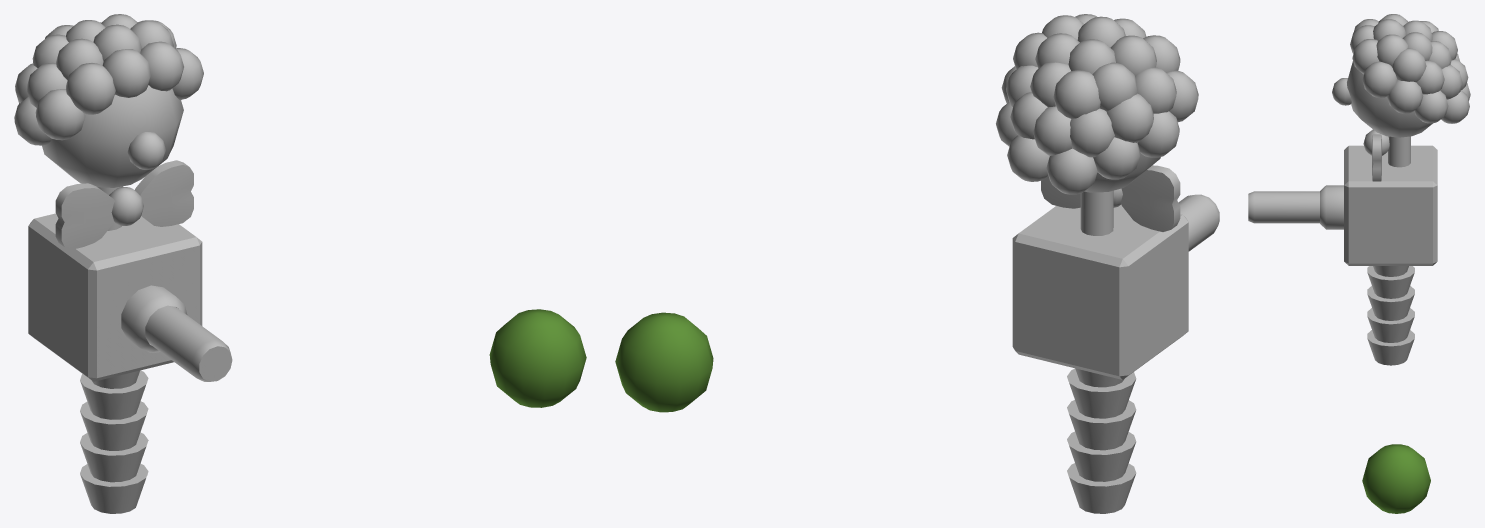
The model's file is Enemies bed time FBX p2.fbx.
The picture shows the model from 3 angles, left to right: view 1: azimuth 30°, elevation 25°; view 2: azimuth 150°, elevation 25°; view 3: azimuth 270°, elevation 25°; orthographic projection. The views are drawn at different scales.
Visible parts, largest first — view 1: pCube1, circle2, Ball_enemy, pCylinder20, pPlane1, pPlane2, pCylinder19, pCylinder18, pCylinder22, pCylinder17, circle11, pCylinder23 (+12 smaller); view 2: pCube1, Ball_enemy, pPlane1, pCylinder18, pCylinder17, pCylinder22, pCylinder23, circle25, circle7, circle18, circle19, circle26 (+20 smaller); view 3: pCube1, Ball_enemy, circle2, pCylinder20, pCylinder19, pCylinder18, pCylinder22, pCylinder17, pCylinder23, circle3, circle4, circle14 (+17 smaller).
Boxes of the visible parts, bbox=[...] form: pCube1: bbox=[28, 213, 202, 381]; circle2: bbox=[42, 85, 183, 187]; Ball_enemy: bbox=[489, 309, 586, 407]; pCylinder20: bbox=[145, 305, 232, 381]; pPlane1: bbox=[55, 183, 114, 249]; pPlane2: bbox=[135, 160, 193, 226]; pCylinder19: bbox=[121, 285, 187, 352]; pCylinder18: bbox=[80, 463, 148, 513]; pCylinder22: bbox=[80, 401, 148, 450]; pCylinder17: bbox=[80, 432, 148, 482]; circle11: bbox=[66, 63, 115, 114]; pCylinder23: bbox=[80, 370, 148, 419]; pCube1: bbox=[1012, 204, 1188, 379]; Ball_enemy: bbox=[615, 312, 713, 412]; pPlane1: bbox=[1120, 165, 1180, 231]; pCylinder18: bbox=[1067, 463, 1136, 513]; pCylinder17: bbox=[1067, 431, 1136, 481]; pCylinder22: bbox=[1067, 400, 1136, 450]; pCylinder23: bbox=[1067, 368, 1136, 418]; circle25: bbox=[1053, 70, 1100, 118]; circle7: bbox=[1046, 148, 1097, 194]; circle18: bbox=[1070, 108, 1114, 157]; circle19: bbox=[1107, 93, 1153, 142]; circle26: bbox=[1092, 62, 1137, 111]; pCube1: bbox=[1344, 145, 1437, 265]; Ball_enemy: bbox=[1362, 444, 1430, 513]; circle2: bbox=[1347, 61, 1432, 137]; pCylinder20: bbox=[1248, 191, 1319, 223]; pCylinder19: bbox=[1320, 185, 1343, 229]; pCylinder18: bbox=[1367, 330, 1414, 365]; pCylinder22: bbox=[1367, 285, 1414, 320]; pCylinder17: bbox=[1367, 308, 1414, 342]; pCylinder23: bbox=[1367, 266, 1414, 298]; circle3: bbox=[1362, 61, 1397, 97]; circle4: bbox=[1387, 80, 1423, 113]; circle14: bbox=[1392, 48, 1426, 82].
Bounding box in the file's own units: 1.78 × 1.48 × 0.8734.
